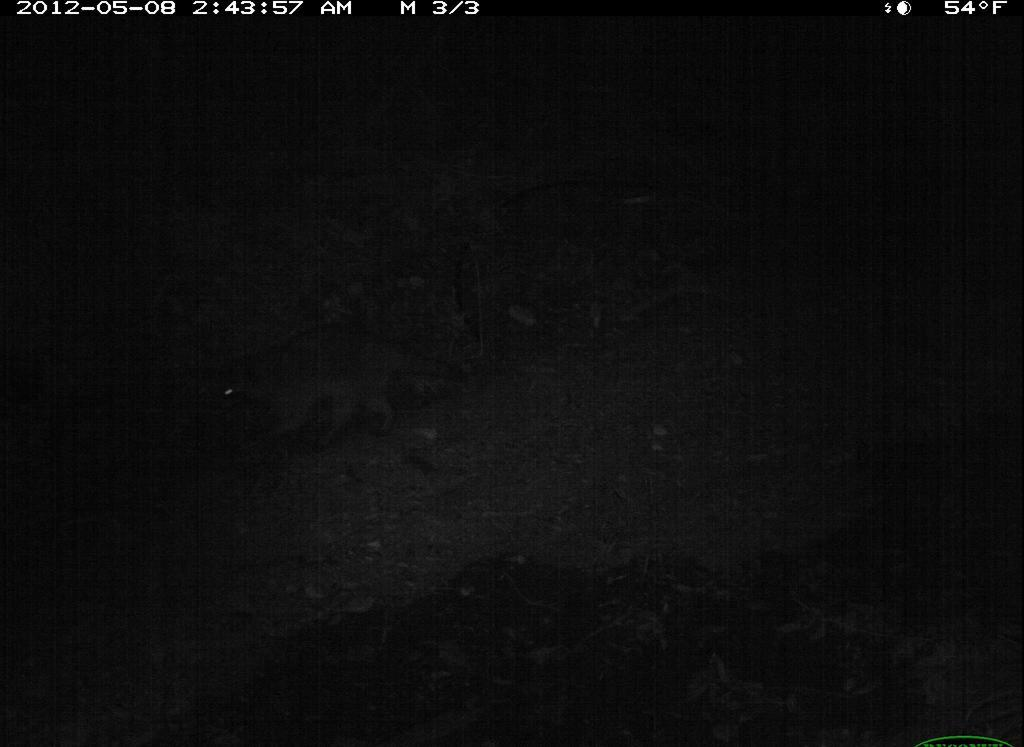raccoon: (199, 326, 469, 457)
